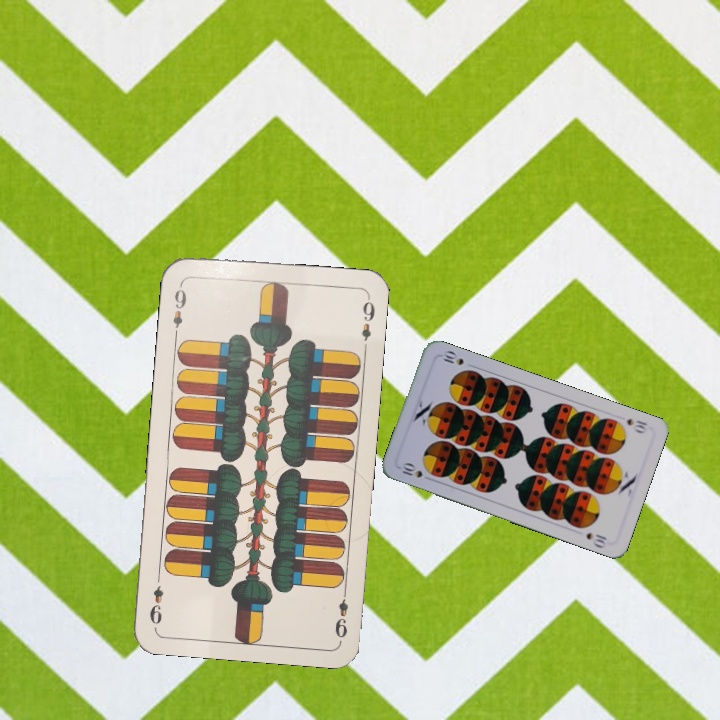E9: (168, 279, 189, 339), (331, 583, 350, 641)
S10: (396, 459, 435, 482), (623, 414, 650, 436)
